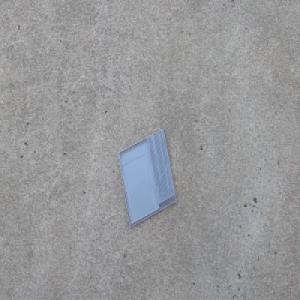PlasticPart: (117, 127, 177, 228)
